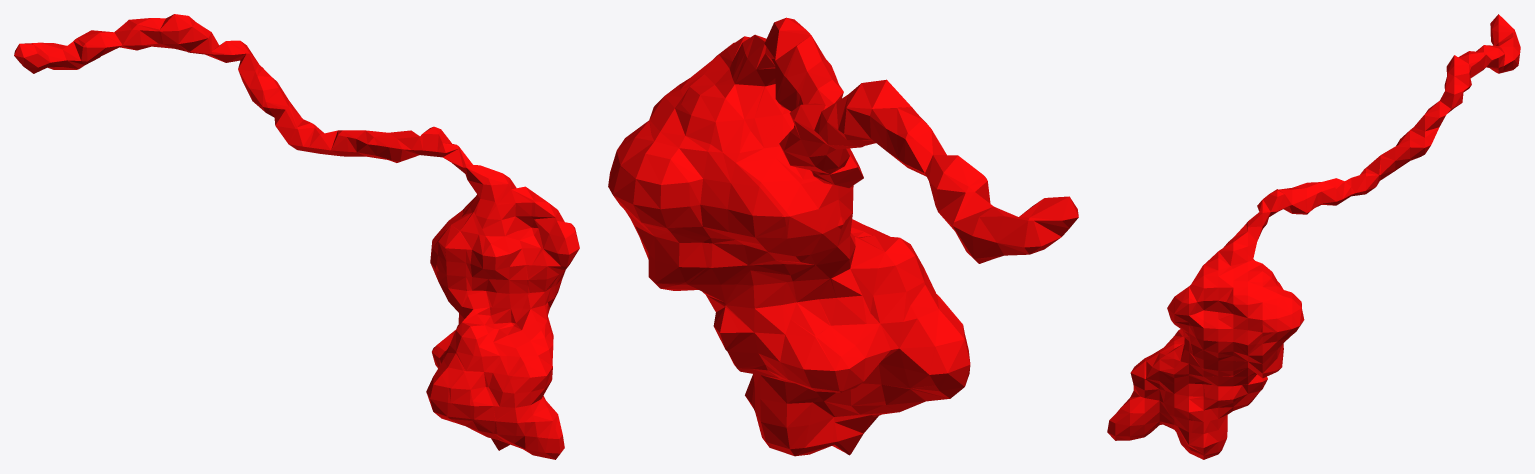
The model's file is radA_coarse.dae.
The picture shows the model from 3 angles, left to right: view 1: azimuth 30°, elevation 25°; view 2: azimuth 150°, elevation 25°; view 3: azimuth 270°, elevation 25°; orthographic projection. The views are drawn at different scales.
Parts seen in each view (by area): view 1: radA; view 2: radA; view 3: radA.
Boxes of the visible parts, left/top/right/bottom form: radA: left=14, top=14, right=579, bottom=459; radA: left=608, top=17, right=1078, bottom=456; radA: left=1107, top=14, right=1520, bottom=459.
Bounding box in the file's own units: 149 × 132 × 153.
